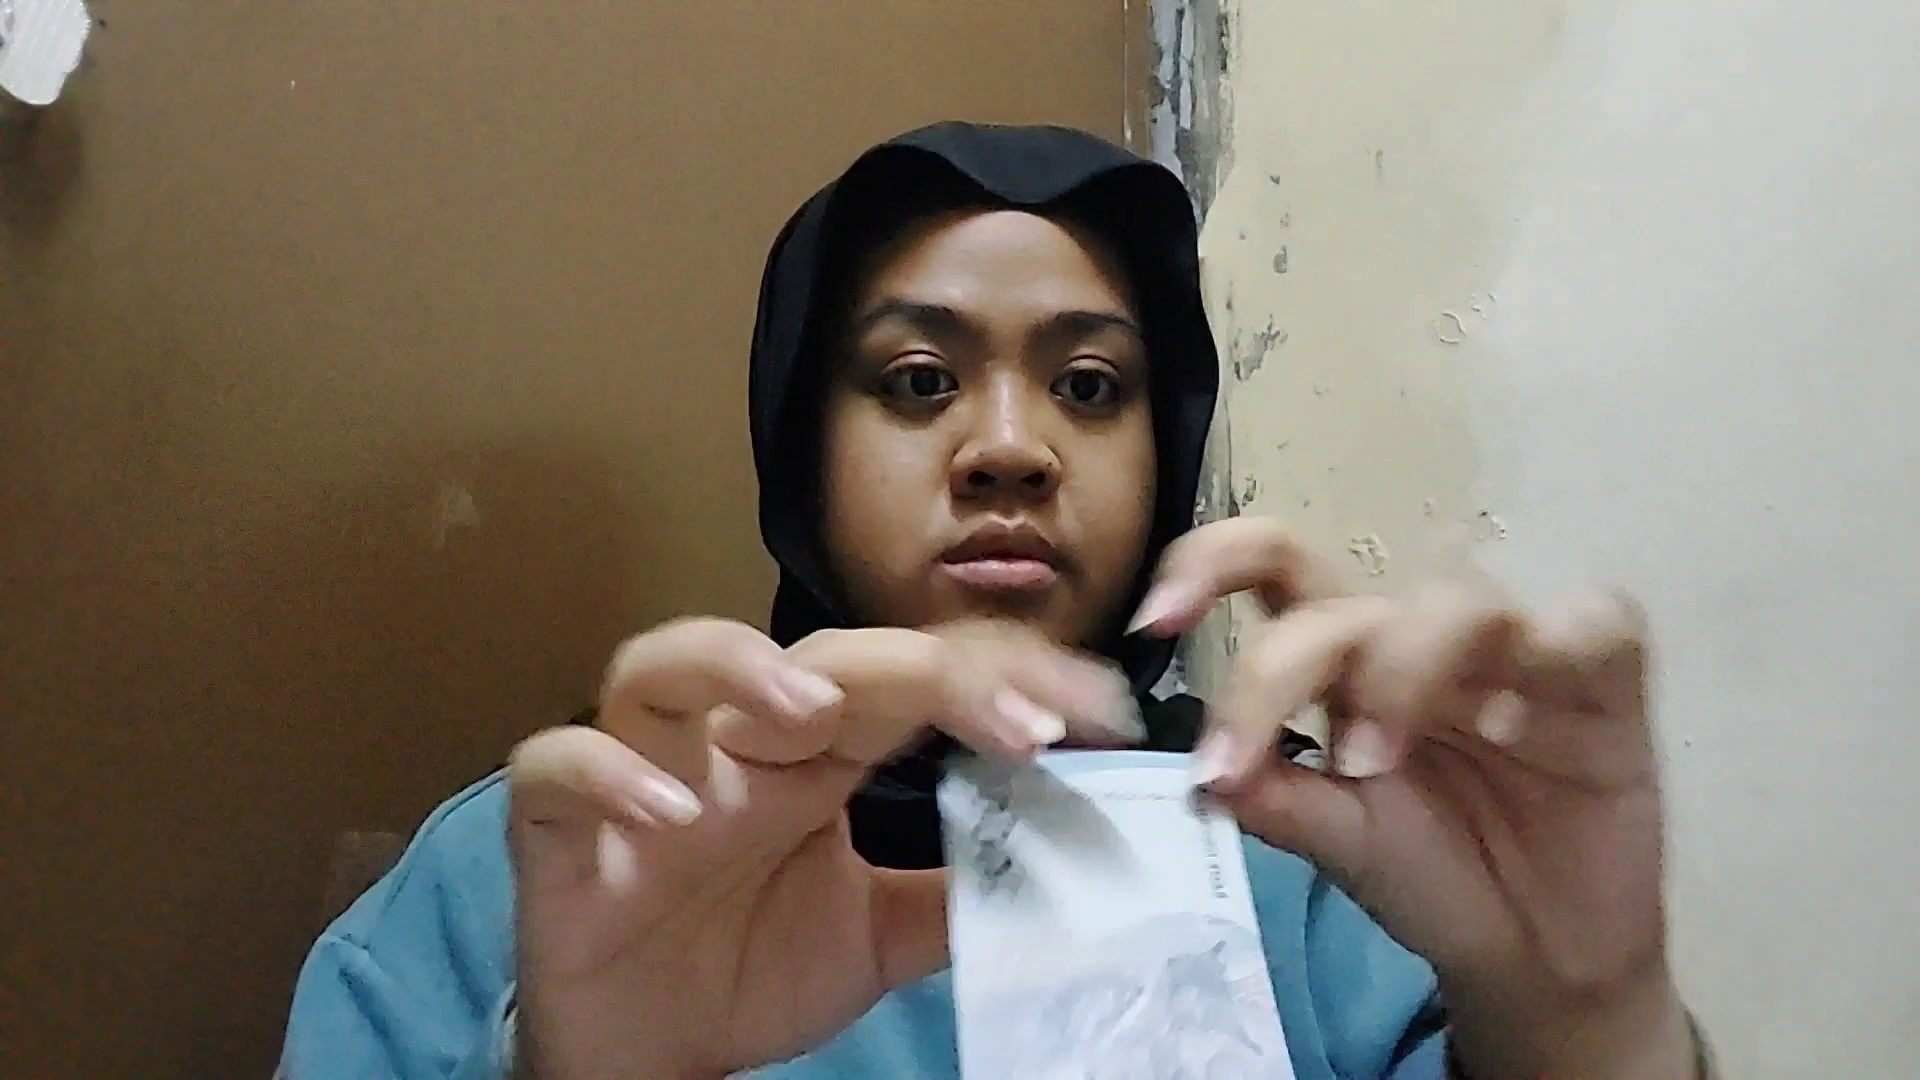2k: (923, 760, 1295, 1080)
